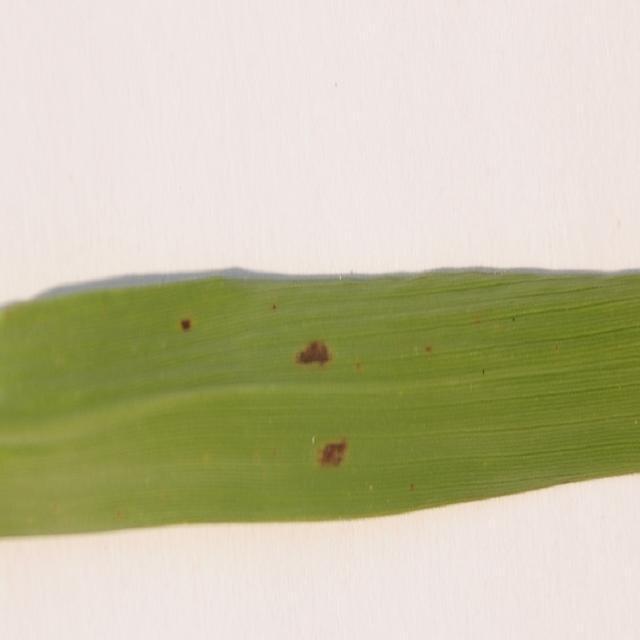Brownspot: (296, 340, 330, 364), (319, 440, 346, 465), (180, 318, 191, 331), (115, 509, 124, 519), (355, 361, 362, 371), (472, 316, 480, 324), (425, 345, 432, 353), (555, 344, 560, 352), (271, 303, 276, 310), (409, 483, 414, 490), (511, 316, 515, 321), (482, 368, 484, 374)
